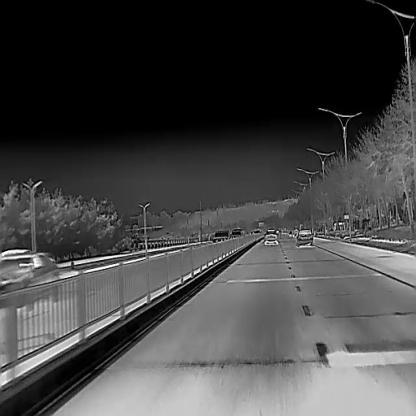car: (0, 246, 84, 306), (294, 226, 314, 246), (263, 229, 279, 246), (212, 229, 231, 243), (230, 227, 245, 240)
